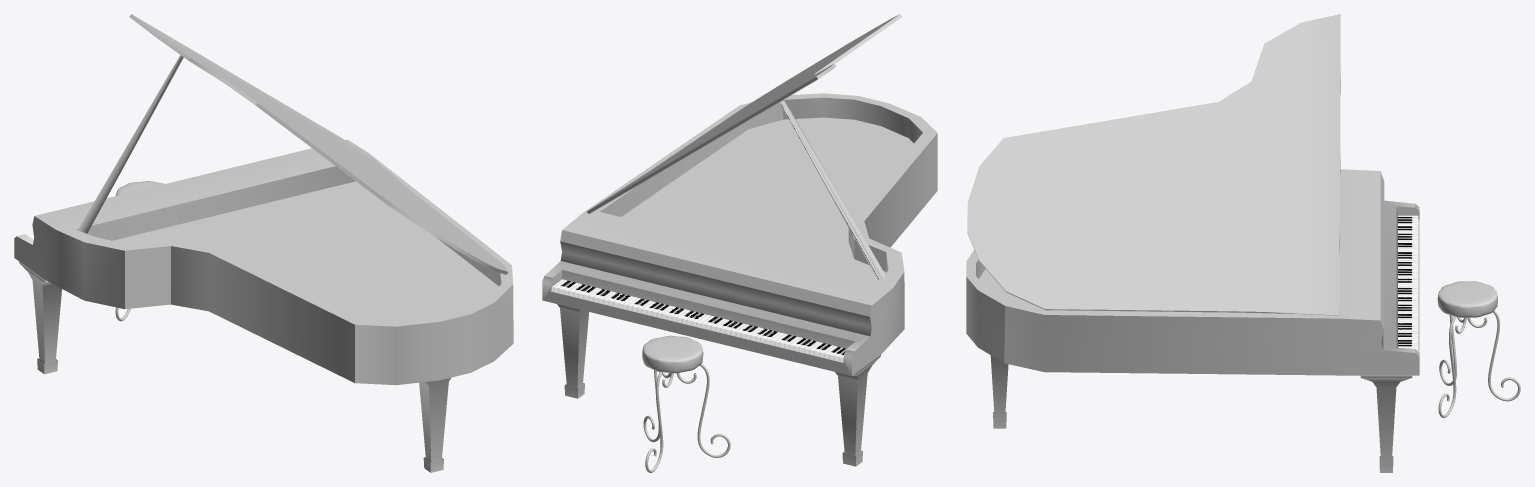
The model's file is piano.glb.
The picture shows the model from 3 angles, left to right: view 1: azimuth 30°, elevation 25°; view 2: azimuth 150°, elevation 25°; view 3: azimuth 270°, elevation 25°; orthographic projection. The views are drawn at different scales.
Visible parts, largest first — view 1: node_id42; view 2: node_id42, Cylinder; view 3: node_id42, Cylinder.
Part boxes in pixels (bbox=[...]): node_id42: bbox=[14, 14, 513, 472]; node_id42: bbox=[542, 14, 937, 466]; Cylinder: bbox=[642, 335, 730, 472]; node_id42: bbox=[966, 14, 1419, 472]; Cylinder: bbox=[1437, 281, 1520, 417].
Size of the model in its own units: 0.4681 by 0.512 by 0.7339.
Materials: 2 (1 with a texture image).
